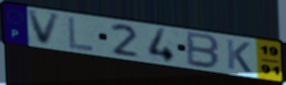2: (109, 23, 141, 58)
4: (146, 27, 177, 65)
B: (186, 30, 222, 71)
K: (224, 38, 253, 75)
L: (66, 15, 96, 53)
V: (26, 9, 64, 46)
